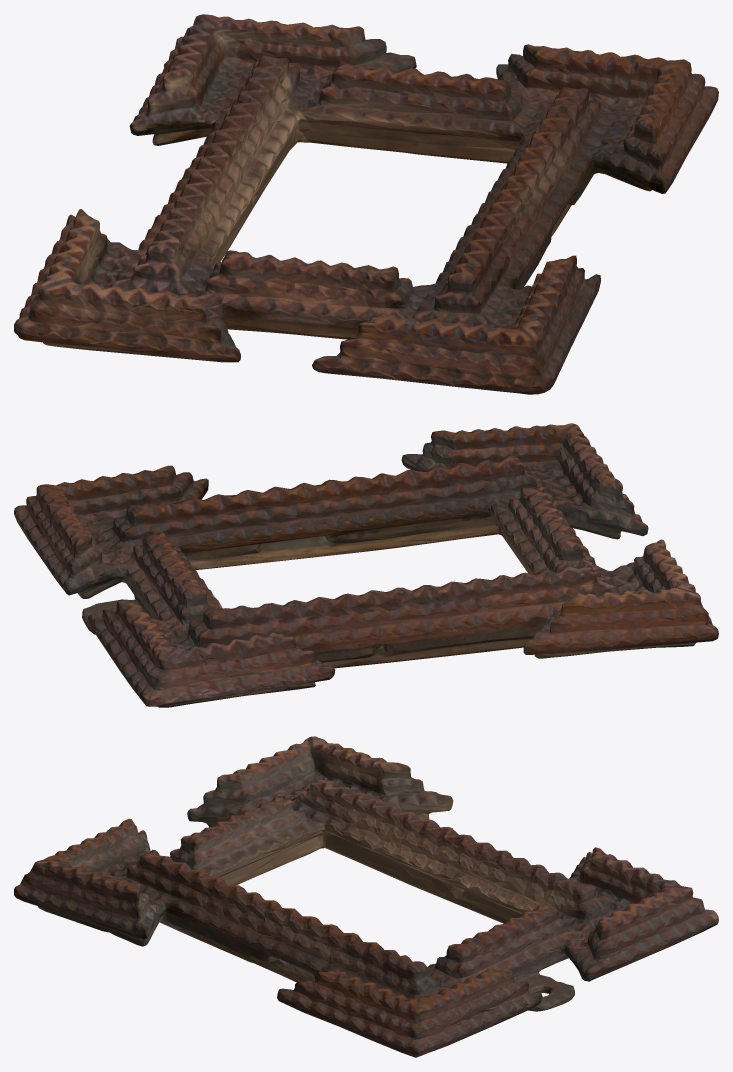
3 views of the same model, one above another, from view 1: azimuth 30°, elevation 25°; view 2: azimuth 150°, elevation 25°; view 3: azimuth 270°, elevation 25° (orthographic). The views are drawn at different scales.
Parts seen in each view (by area): view 1: Bilderrahmen 2_20k_2k; view 2: Bilderrahmen 2_20k_2k; view 3: Bilderrahmen 2_20k_2k.
Boxes of the visible parts, left/top/right/bottom form: Bilderrahmen 2_20k_2k: left=14, top=14, right=718, bottom=394; Bilderrahmen 2_20k_2k: left=14, top=423, right=718, bottom=707; Bilderrahmen 2_20k_2k: left=14, top=736, right=718, bottom=1057.
Size of the model in its own units: 0.2355 by 0.0225 by 0.2351.
Materials: 1 (1 with a texture image).
